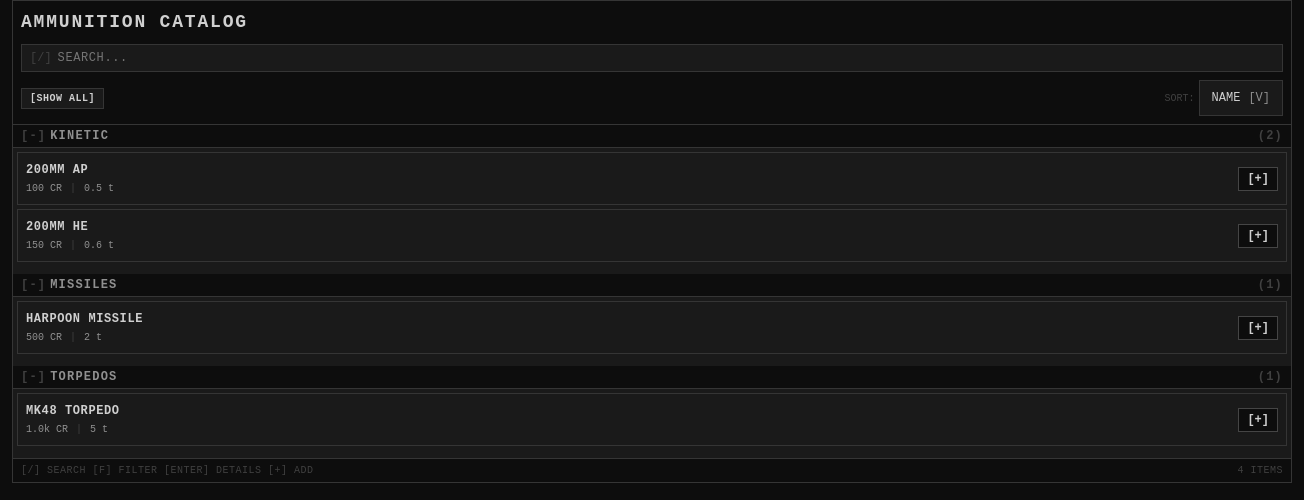
Test case: AmmunitionBrowser › search filtering › filters ammunition by search query
Type "torpedo" into the field with placeholder "SEARCH...".
click(665, 58); type("torpedo")  # box 56,50 -> 1274,66
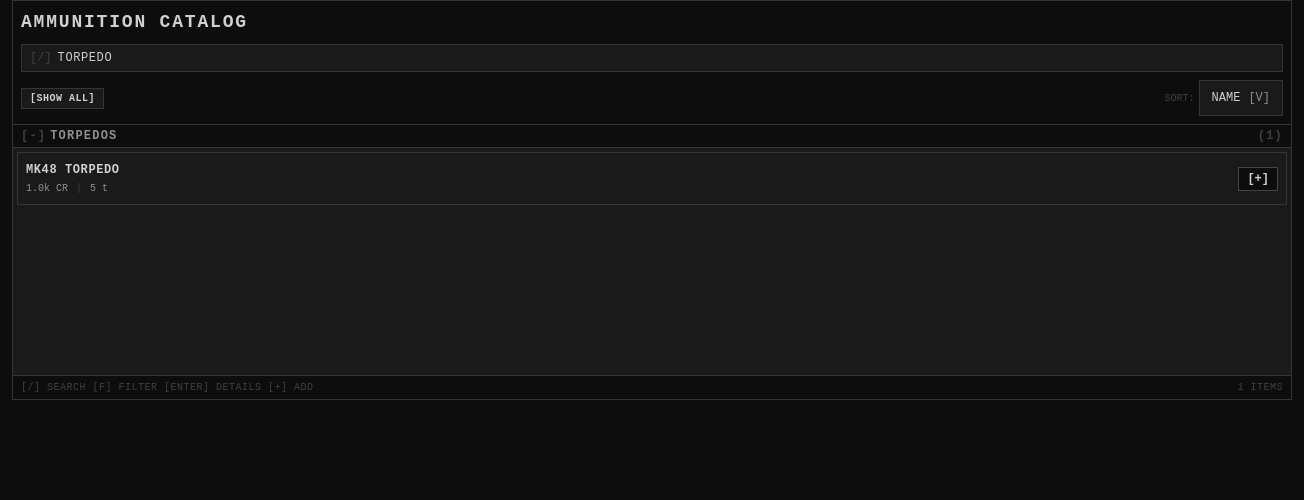
Expected: the text "Mk48 Torpedo" is shown, 26,163 -> 120,177
Expected: the button "200mm AP" is gone
Expected: the button "Harpoon Missile" is gone
